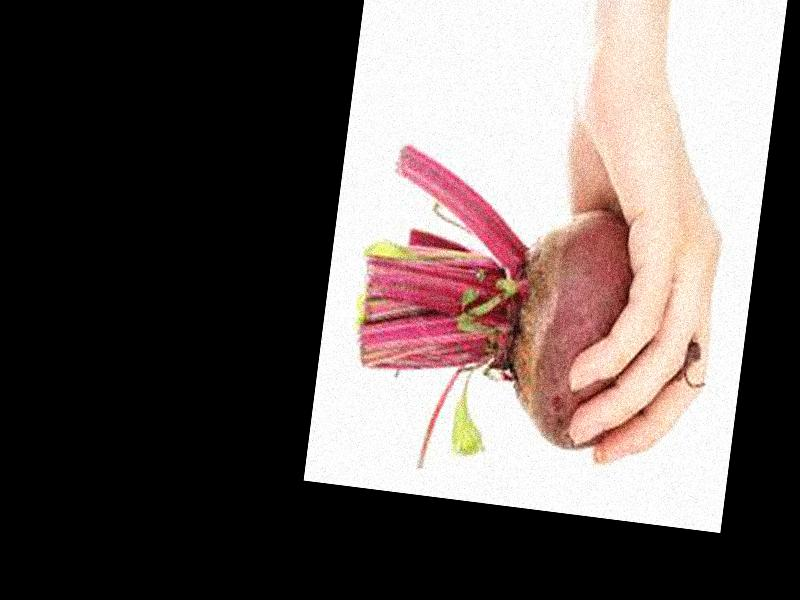Beet: (339, 142, 724, 501)
